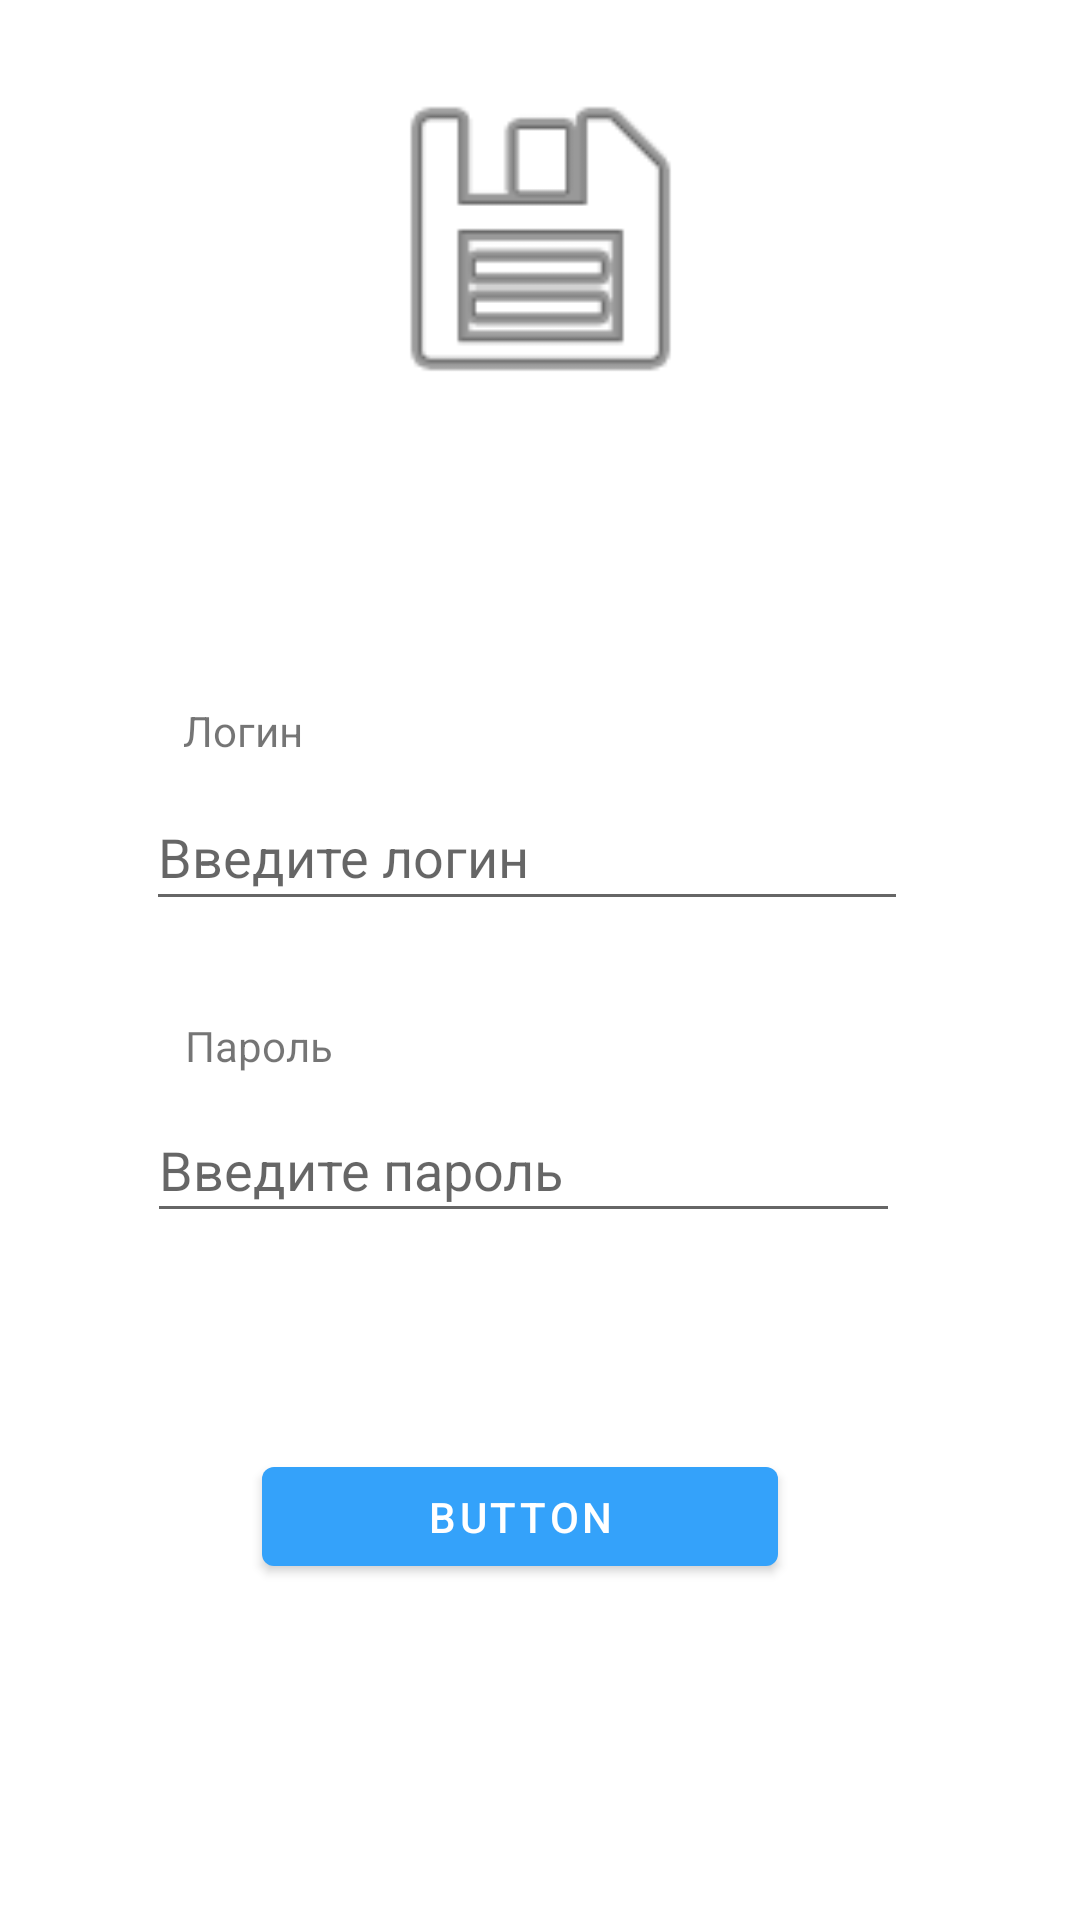

Screen size 1080 × 1920. Icon name, then its box in pixels as (x1, y1, x2, y2):
save: (410, 107, 671, 371)
